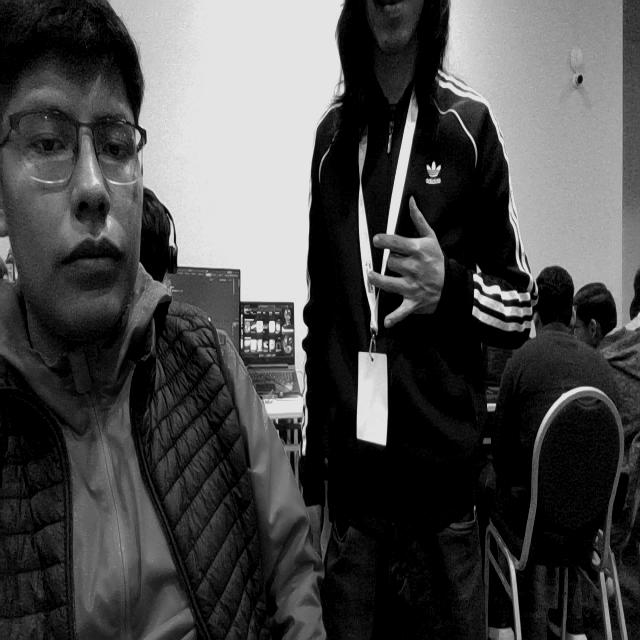feel: (368, 187, 447, 341)
